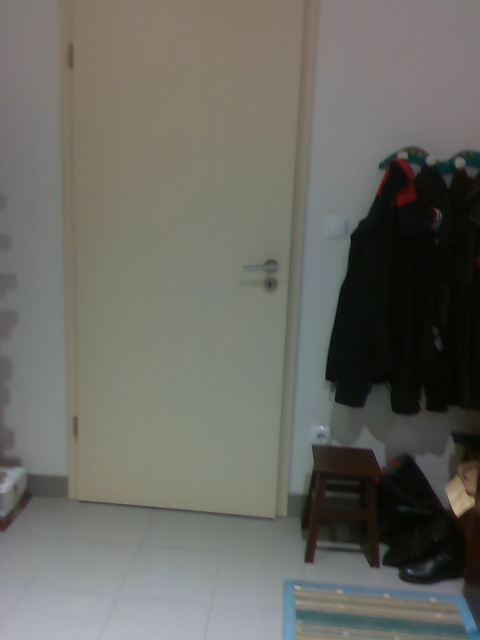closed: (62, 2, 314, 514)
